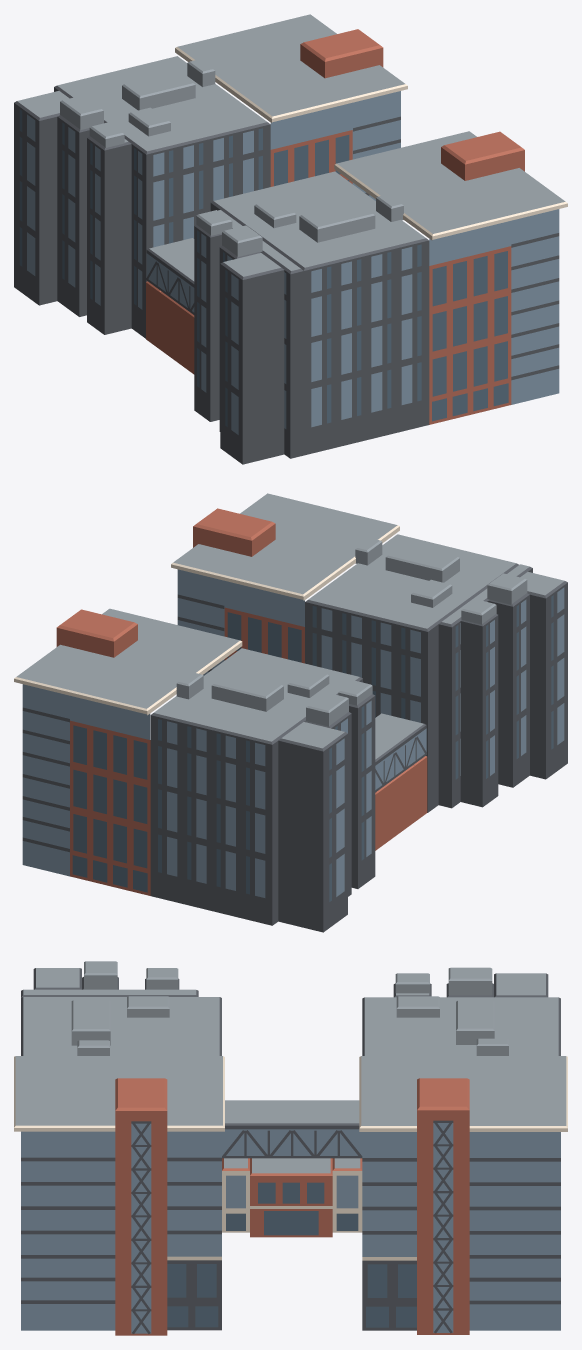
File: clt-railyard.glb
The picture shows the model from 3 angles, top to bottom: view 1: azimuth 30°, elevation 25°; view 2: azimuth 150°, elevation 25°; view 3: azimuth 270°, elevation 25°; orthographic projection. The views are drawn at different scales.
Visible parts, largest first — view 1: The Railyard; view 2: The Railyard; view 3: The Railyard.
Part boxes in pixels (x1,y1,x2,y2): The Railyard: (14,14,567,464); The Railyard: (14,493,567,932); The Railyard: (14,961,567,1335).
Size of the model in its own units: 68.42 by 43 by 95.1.
